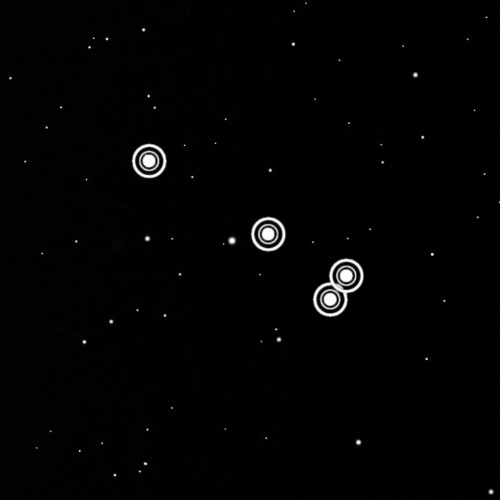sagitta: (122, 134, 370, 323)
